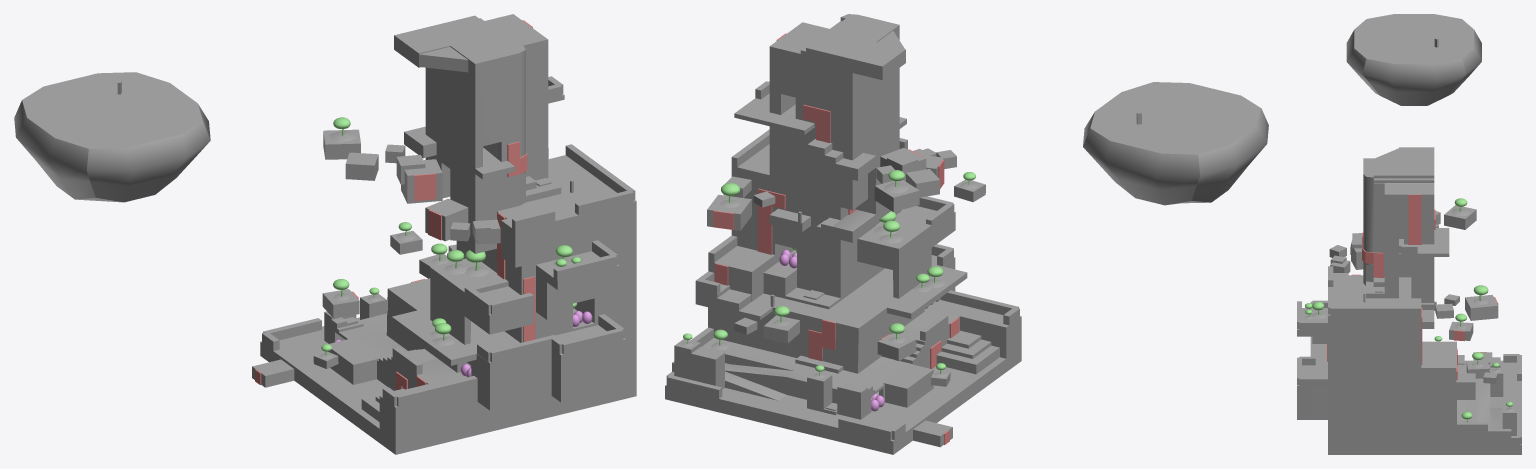
The model's file is SceneLayout.fbx.
The picture shows the model from 3 angles, left to right: view 1: azimuth 30°, elevation 25°; view 2: azimuth 150°, elevation 25°; view 3: azimuth 270°, elevation 25°; orthographic projection. The views are drawn at different scales.
Parts seen in each view (by area): view 1: pCube103, pCube90, pCube101, pCube55, pCube35, polySurface88, polySurface139, pCube56, polySurface202, polySurface212, polySurface195, pCube96 (+12 smaller); view 2: pCube103, pCube90, pCube35, polySurface88, pCube55, pCube101, polySurface139, pCube57, polySurface128, polySurface202, pCube96, pCube78 (+23 smaller); view 3: pCube103, pCube101, pCube55, pCube90, polySurface88, pCube35, pCube56, polySurface128, pCube78, pCube80, polySurface165, pCube57 (+24 smaller).
Boxes of the visible parts, x1,y1,x2,y2 form: pCube103: (14, 72, 210, 202); pCube90: (425, 14, 537, 253); pCube101: (456, 155, 636, 342); pCube55: (386, 278, 636, 410); pCube35: (260, 311, 636, 454); polySurface88: (331, 313, 636, 440); polySurface139: (430, 258, 533, 344); pCube56: (509, 32, 548, 180); polySurface202: (391, 310, 476, 365); polySurface212: (396, 154, 442, 203); polySurface195: (536, 251, 619, 289); pCube96: (394, 27, 450, 67); pCube103: (1083, 82, 1268, 205); pCube90: (769, 14, 899, 221); pCube35: (665, 348, 1021, 454); polySurface88: (702, 300, 1021, 414); pCube55: (708, 255, 955, 373); pCube101: (731, 144, 902, 300); polySurface139: (857, 206, 955, 298); pCube57: (769, 156, 867, 210); polySurface128: (708, 246, 774, 301); polySurface202: (887, 266, 967, 318); pCube96: (852, 42, 905, 80); pCube78: (734, 93, 814, 134); pCube103: (1346, 14, 1481, 105); pCube101: (1328, 275, 1421, 397); pCube55: (1297, 341, 1457, 431); pCube90: (1363, 158, 1434, 285); polySurface88: (1328, 364, 1502, 444); pCube35: (1328, 360, 1521, 454); pCube56: (1384, 183, 1398, 298); polySurface128: (1421, 358, 1456, 397); pCube78: (1399, 228, 1449, 256); pCube80: (1408, 194, 1421, 244); polySurface165: (1465, 294, 1498, 320); pCube57: (1411, 277, 1434, 302).
Size of the model in its own units: 206 by 132 by 103.
